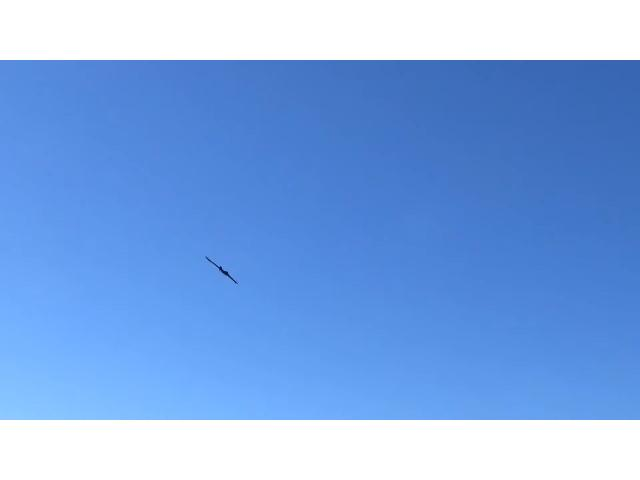Anti-Drone: (194, 247, 252, 293)
